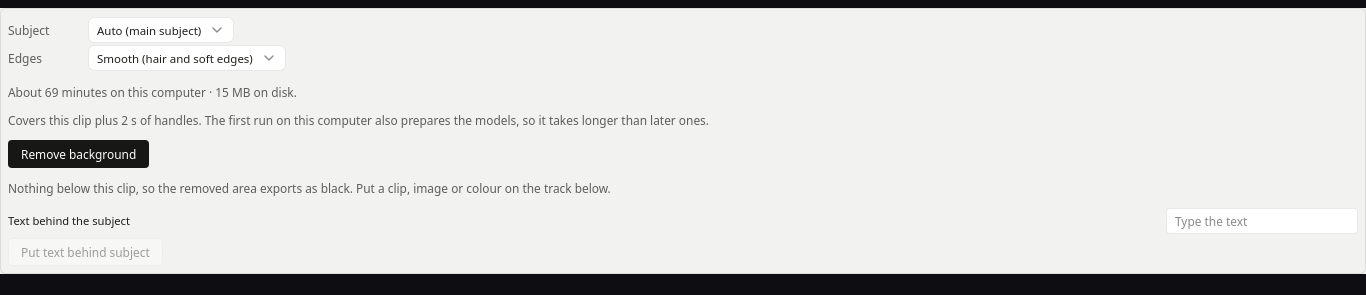
Test: BackgroundRemovalRow › offers text behind the subject once a background removal is applied
The width and height of the screenshot is (1366, 295).
expect the button "Put text behind subject" is disabled: met, box [8,238,163,266]
Type "BEHIND" into the field labelled "Text behind the subject".
click(1262, 221); type("BEHIND")  # box [1166,208,1358,234]
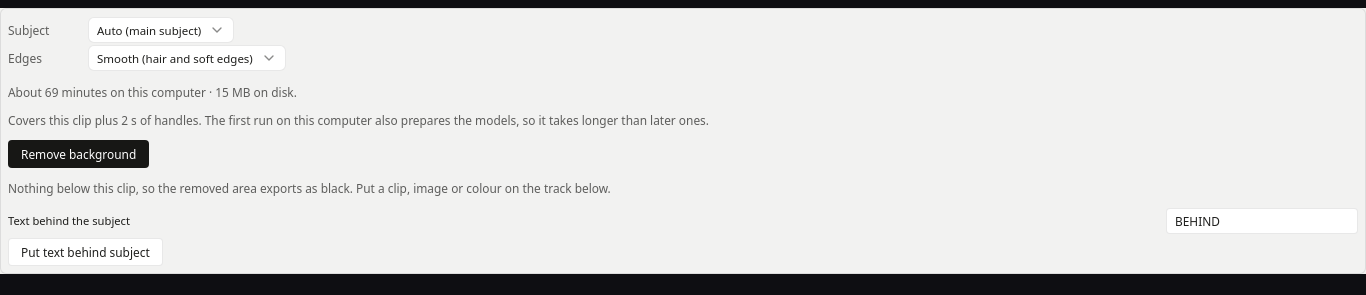
Click the button "Put text behind subject".
click(85, 252)  # box [8,238,163,266]
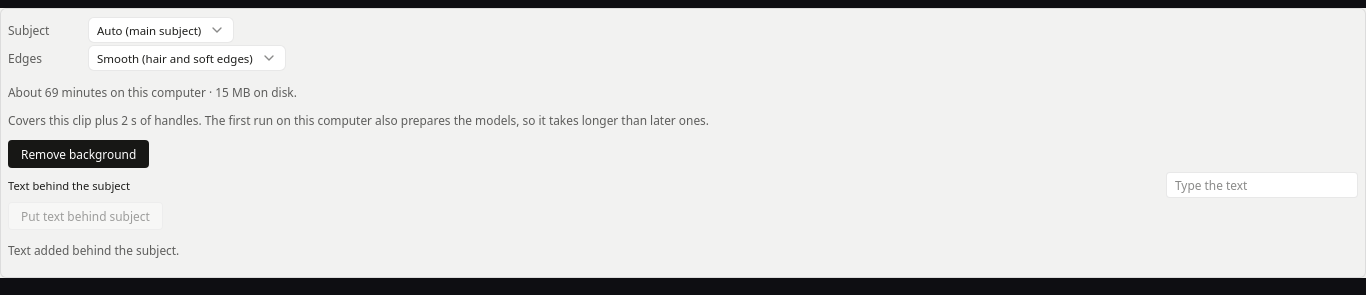
expect the text "Text added behind the subject." is shown: met, box [8,242,179,258]
